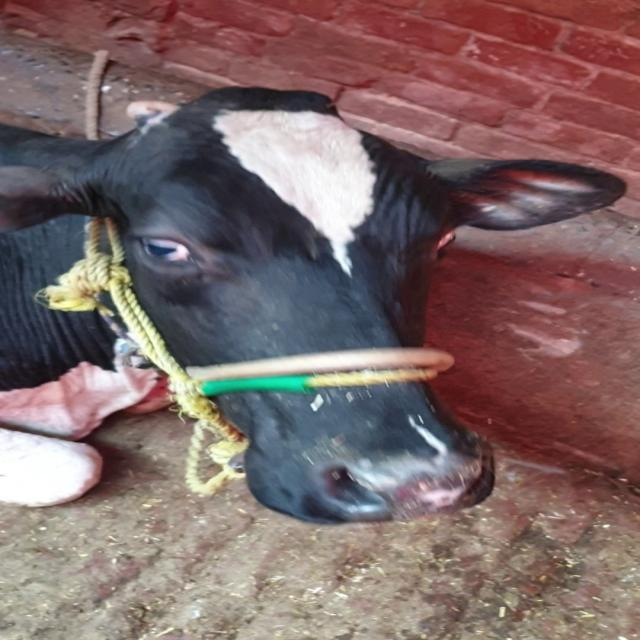cowFace: (99, 98, 557, 528)
